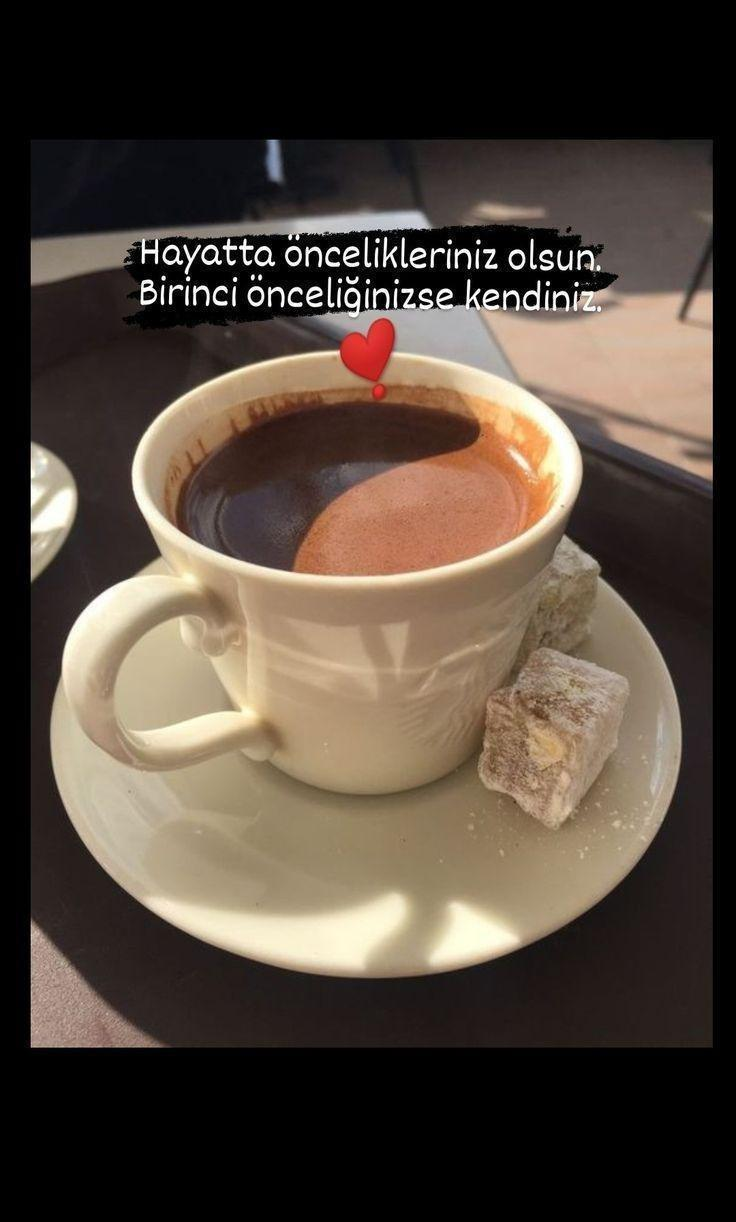cup-handle: (59, 339, 584, 797)
